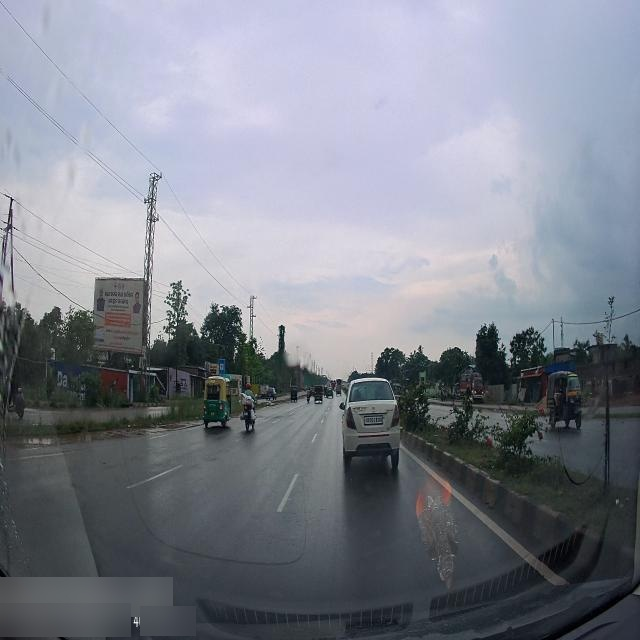pothole: (13, 432, 118, 450)
